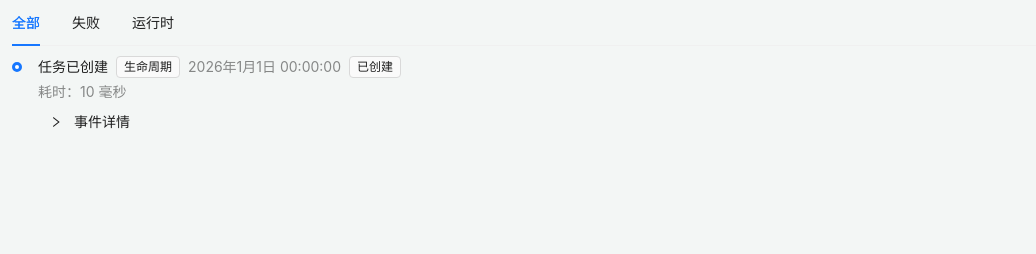
Test: research insight components › expands safe event details
This screenshot has width=1036, height=254.
Click the button "事件详情": click(90, 122) left=50, top=113, right=130, bottom=130
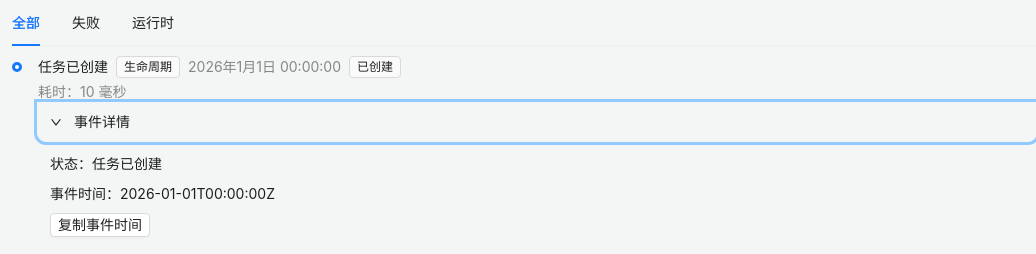
Expected: the text "状态：任务已创建" is shown, left=50, top=155, right=162, bottom=172
